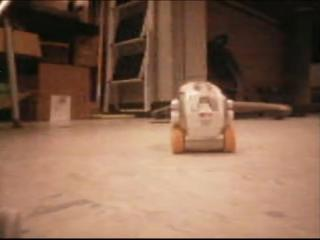cozmo: (164, 75, 242, 157)
